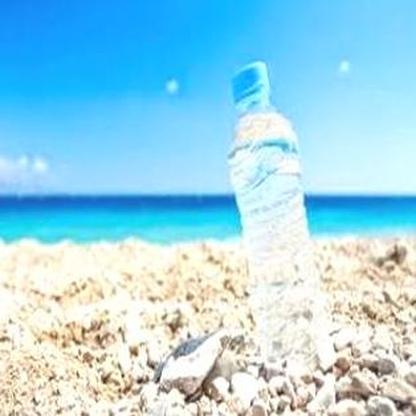plastic bottle: (227, 59, 337, 368)
